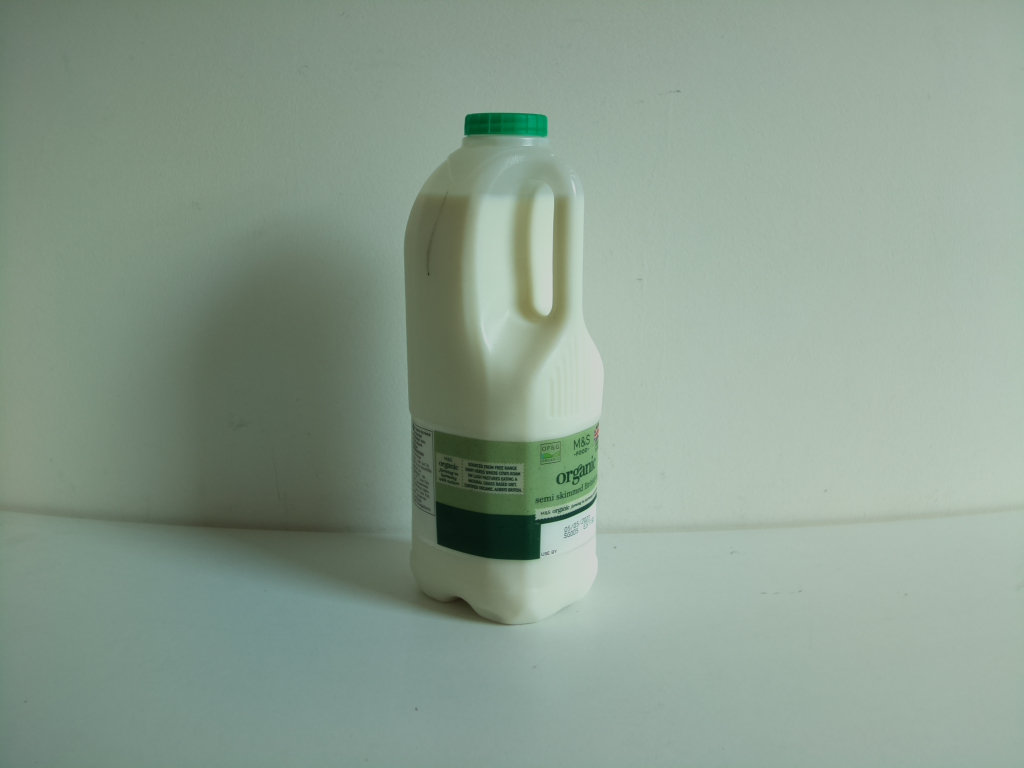milk: (403, 105, 612, 638)
